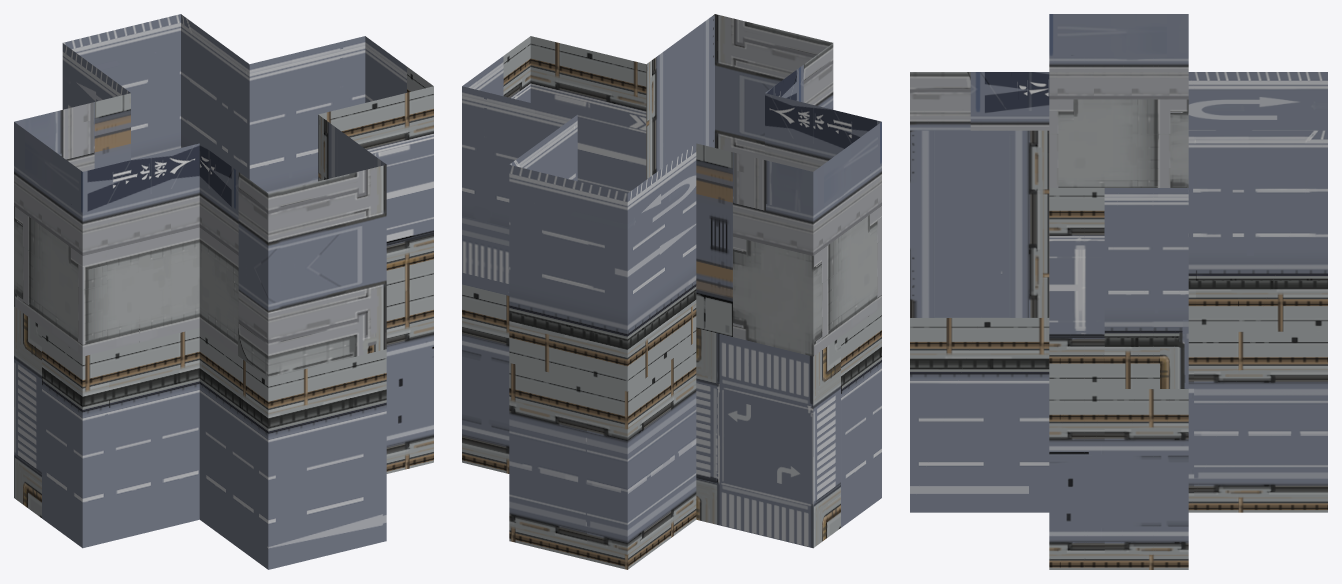
Rendered from stoneWall.fbx.
3 views of the same model, side by side, from view 1: azimuth 30°, elevation 25°; view 2: azimuth 150°, elevation 25°; view 3: azimuth 270°, elevation 25° (orthographic).
Visible parts, largest first — view 1: CrossRoad; view 2: CrossRoad; view 3: CrossRoad.
Boxes of the visible parts, x1,y1,x2,y2 form: CrossRoad: (14, 14, 433, 569); CrossRoad: (462, 14, 881, 569); CrossRoad: (910, 14, 1327, 569).
Size of the model in its own units: 59.61 by 61.05 by 60.53.
